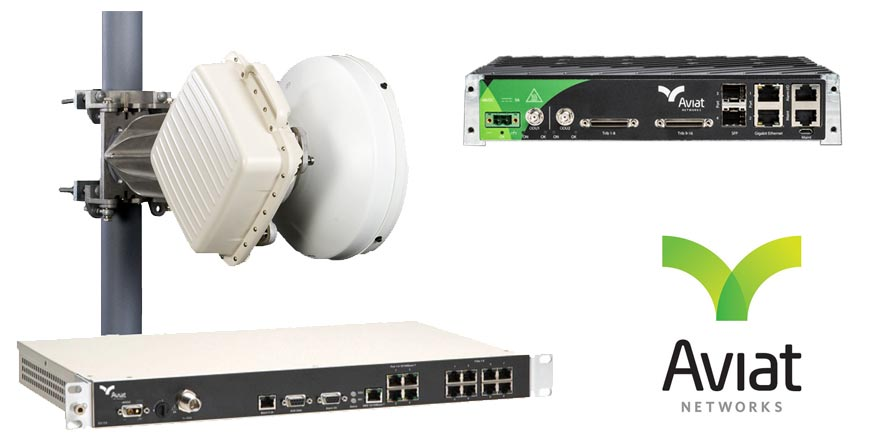ba: (89, 50, 414, 279)
